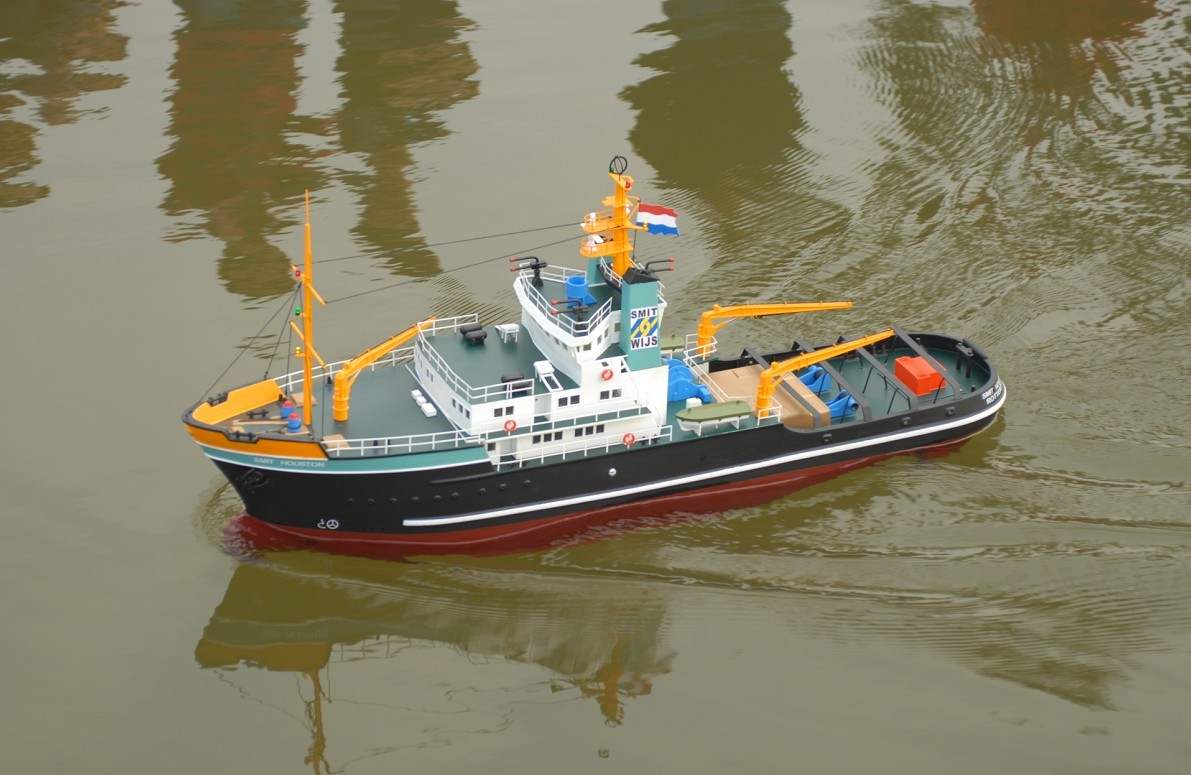otherboat: (175, 157, 1008, 560)
